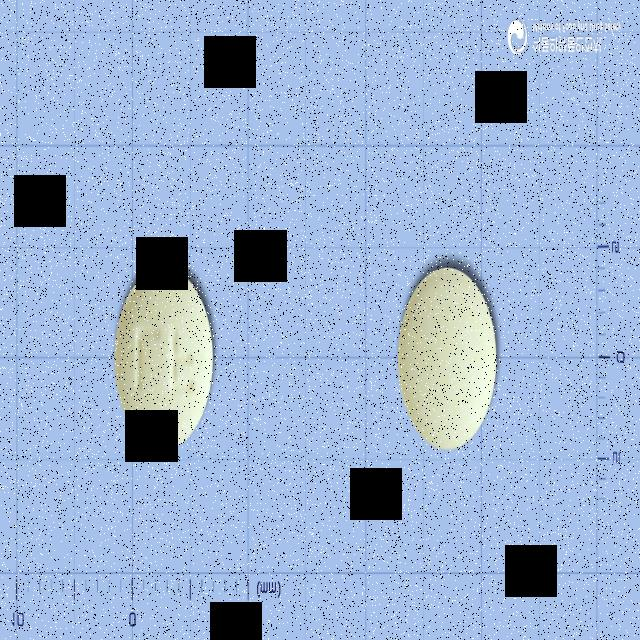Levofloxacin Tab- Dongsung: (113, 268, 215, 452), (398, 268, 497, 448)
